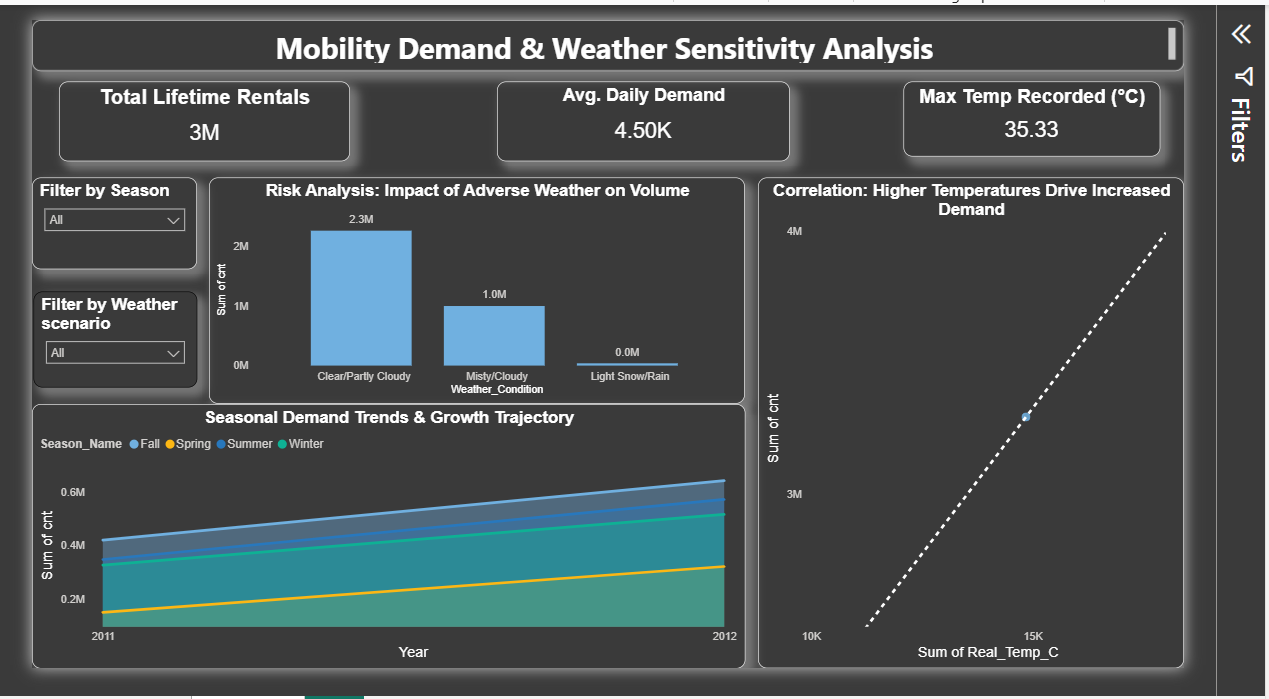

The page's visual inventory and layout, read from the dashboard file:
{"tool":"powerbi","page":{"name":"Page 1","canvas":[1280,720],"ordinal":0},"visuals":[{"type":"card","title":"Total Lifetime Rentals","fields":{"Values":["Sum(Bike_Demand_Cleaned.cnt)"]},"box":[30,68.3,323.3,88.3],"z":0},{"type":"card","title":"Avg. Daily Demand","fields":{"Values":["Avg(Bike_Demand_Cleaned.cnt)"]},"box":[516.7,68.3,325,88.3],"z":1000},{"type":"clusteredColumnChart","title":"Risk Analysis: Impact of Adverse Weather on Volume","fields":{"Category":["Bike_Demand_Cleaned.Weather_Condition"],"Y":["Sum(Bike_Demand_Cleaned.cnt)"]},"box":[196.9,175.1,595.5,251.6],"z":2000},{"type":"scatterChart","title":"Correlation: Higher Temperatures Drive Increased Demand","fields":{"X":["Sum(Bike_Demand_Cleaned.Real_Temp_C)"],"Y":["Sum(Bike_Demand_Cleaned.cnt)"]},"box":[806.5,175.1,473.6,545.5],"z":3000},{"type":"areaChart","title":"Seasonal Demand Trends & Growth Trajectory","fields":{"Category":["Bike_Demand_Cleaned.dteday.Variation.Date Hierarchy.Year","Bike_Demand_Cleaned.dteday.Variation.Date Hierarchy.Quarter","Bike_Demand_Cleaned.dteday.Variation.Date Hierarchy.Month","Bike_Demand_Cleaned.dteday.Variation.Date Hierarchy.Day"],"Y":["Sum(Bike_Demand_Cleaned.cnt)"],"Series":["Bike_Demand_Cleaned.Season_Name"]},"box":[0,426.7,792.4,293.8],"z":4000},{"type":"slicer","title":"Filter by Season","fields":{"Values":["Bike_Demand_Cleaned.Season_Name"]},"box":[0,175,183.3,101.7],"z":5000},{"type":"slicer","title":"Filter by Weather scenario","fields":{"Values":["Bike_Demand_Cleaned.Weather_Condition"]},"box":[1.7,301.7,181.7,106.7],"z":6000},{"type":"textbox","box":[0,0,1280,56.7],"z":7000},{"type":"card","title":"Max Temp Recorded (°C)","fields":{"Values":["Max(Bike_Demand_Cleaned.Real_Temp_C)"]},"box":[968.3,68.3,285,83.3],"z":8000}]}

Visuals, with their boxes in screenshot pixels (x1, y1, x2, y2):
"Total Lifetime Rentals" card: bbox(59, 66, 369, 150)
"Avg. Daily Demand" card: bbox(526, 66, 837, 150)
"Risk Analysis: Impact of Adverse Weather on Volume" clusteredColumnChart: bbox(219, 168, 790, 409)
"Correlation: Higher Temperatures Drive Increased Demand" scatterChart: bbox(804, 168, 1258, 691)
"Seasonal Demand Trends & Growth Trajectory" areaChart: bbox(30, 409, 790, 691)
"Filter by Season" slicer: bbox(30, 168, 206, 266)
"Filter by Weather scenario" slicer: bbox(31, 290, 206, 392)
textbox: bbox(30, 0, 1258, 54)
"Max Temp Recorded (°C)" card: bbox(959, 66, 1232, 145)
